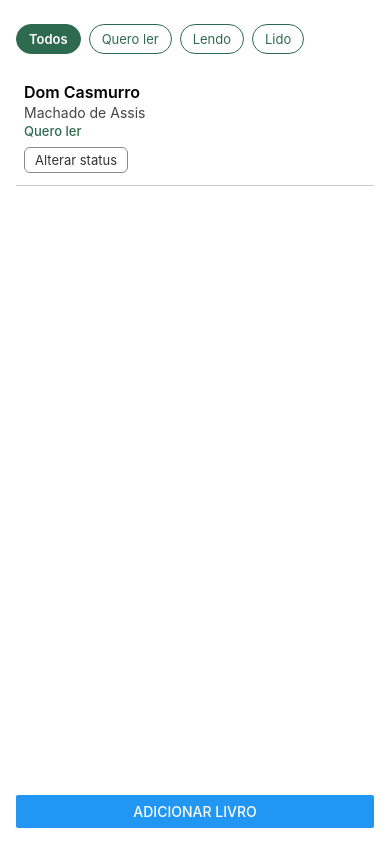
Test: EstanteScreen › mostra mensagem de resultado vazio quando o filtro nao tem livros
Expected: the text "Dom Casmurro" is shown, left=24, top=82, right=140, bottom=102
Click the button with aria-label "Filtro Lido". click: [278, 39]
box: left=252, top=24, right=304, bottom=54
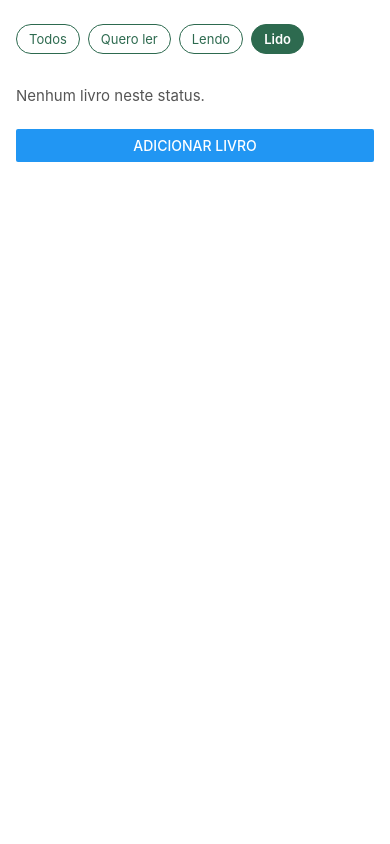
Expected: the text "Nenhum livro neste status." is shown, left=16, top=86, right=205, bottom=105
